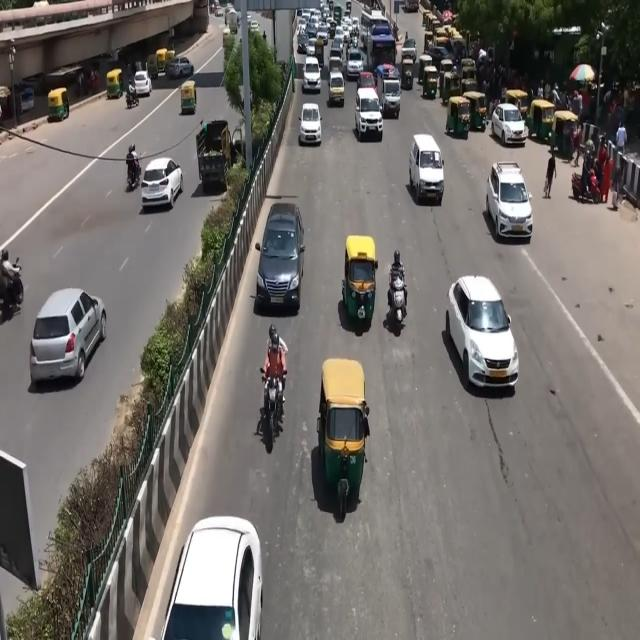auto: (318, 358, 368, 516), (342, 234, 378, 325), (526, 98, 556, 143), (551, 108, 578, 151), (446, 95, 472, 139), (462, 90, 488, 134), (504, 88, 528, 122), (48, 87, 69, 122), (440, 68, 459, 106), (180, 80, 197, 114), (423, 65, 439, 100), (106, 69, 123, 100), (400, 54, 414, 90), (418, 53, 433, 86), (156, 48, 170, 77), (146, 54, 159, 80), (314, 37, 324, 69)
bike-auto: (258, 364, 288, 452), (0, 248, 23, 312), (388, 266, 408, 326), (572, 168, 601, 204), (126, 142, 140, 188), (125, 84, 139, 109)
